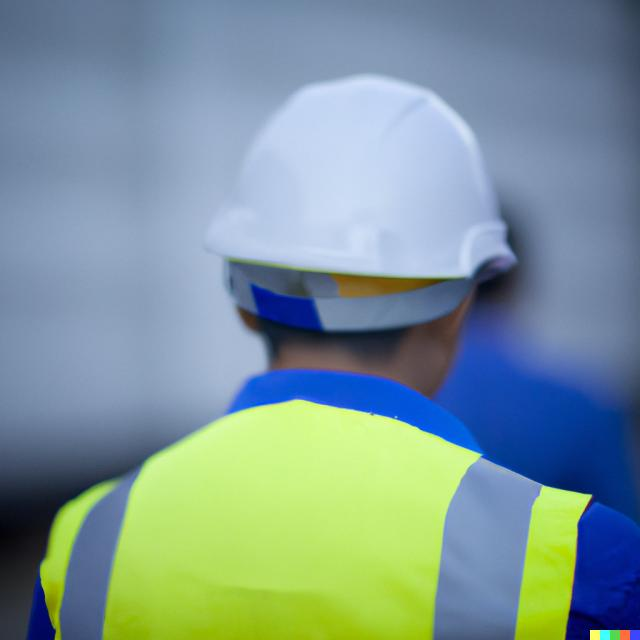Reflective-Jacket: (27, 412, 621, 637)
Safety-Helmet: (197, 68, 528, 296)
